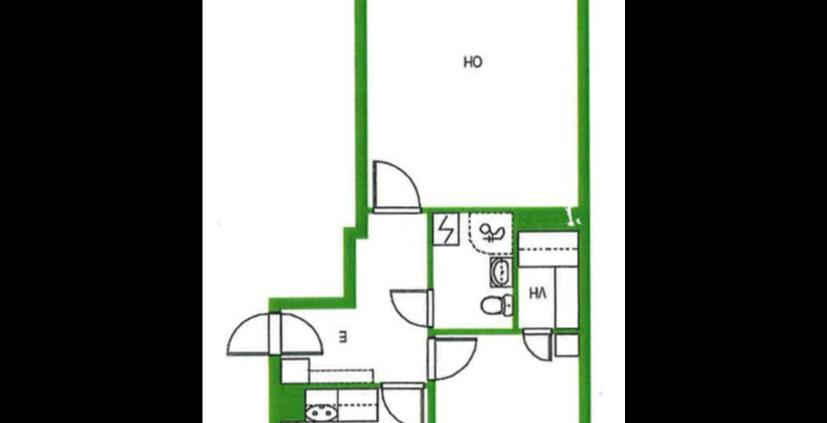bathroom: (432, 211, 514, 328)
door: (370, 156, 422, 218), (272, 308, 324, 359), (223, 312, 280, 358), (426, 333, 479, 382), (388, 285, 435, 328), (378, 380, 425, 423), (518, 326, 552, 364)
perimeter: (266, 0, 588, 423)
